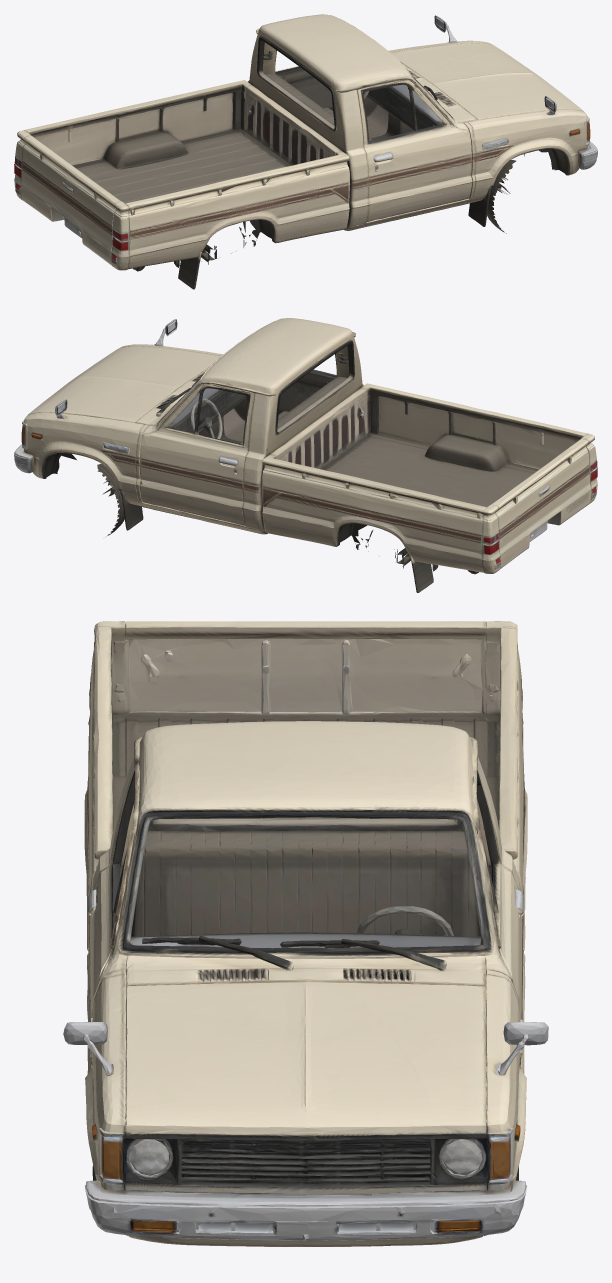
Rendered from body.glb.
3 renders of one model, top to bottom at view 1: azimuth 30°, elevation 25°; view 2: azimuth 150°, elevation 25°; view 3: azimuth 270°, elevation 25°, orthographic. The views are drawn at different scales.
Parts seen in each view (by area): view 1: tripo_node_c976ce91-3ca2-40ad-a5aa-6c338e29560a; view 2: tripo_node_c976ce91-3ca2-40ad-a5aa-6c338e29560a; view 3: tripo_node_c976ce91-3ca2-40ad-a5aa-6c338e29560a.
Boxes of the visible parts, <box> form: tripo_node_c976ce91-3ca2-40ad-a5aa-6c338e29560a: <box>14,14,597,289</box>; tripo_node_c976ce91-3ca2-40ad-a5aa-6c338e29560a: <box>14,318,597,592</box>; tripo_node_c976ce91-3ca2-40ad-a5aa-6c338e29560a: <box>63,621,548,1246</box>.
Bounding box in the file's own units: 4.48 × 1.69 × 1.93.
Materials: 1 (1 with a texture image).
